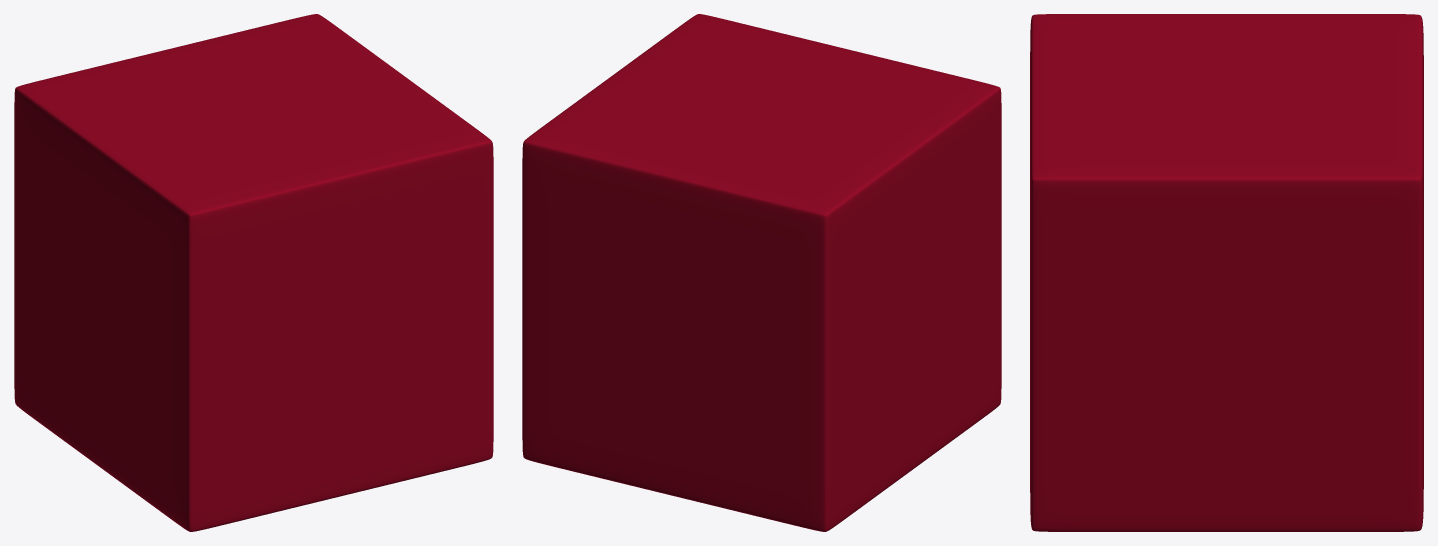
File: Player.fbx
The picture shows the model from 3 angles, left to right: view 1: azimuth 30°, elevation 25°; view 2: azimuth 150°, elevation 25°; view 3: azimuth 270°, elevation 25°; orthographic projection. The views are drawn at different scales.
Visible parts, largest first — view 1: pCube1; view 2: pCube1; view 3: pCube1.
Part boxes in pixels (bbox=[...]): pCube1: bbox=[14, 14, 493, 531]; pCube1: bbox=[522, 14, 1001, 531]; pCube1: bbox=[1030, 14, 1423, 531].
Size of the model in its own units: 1 by 1 by 1.
